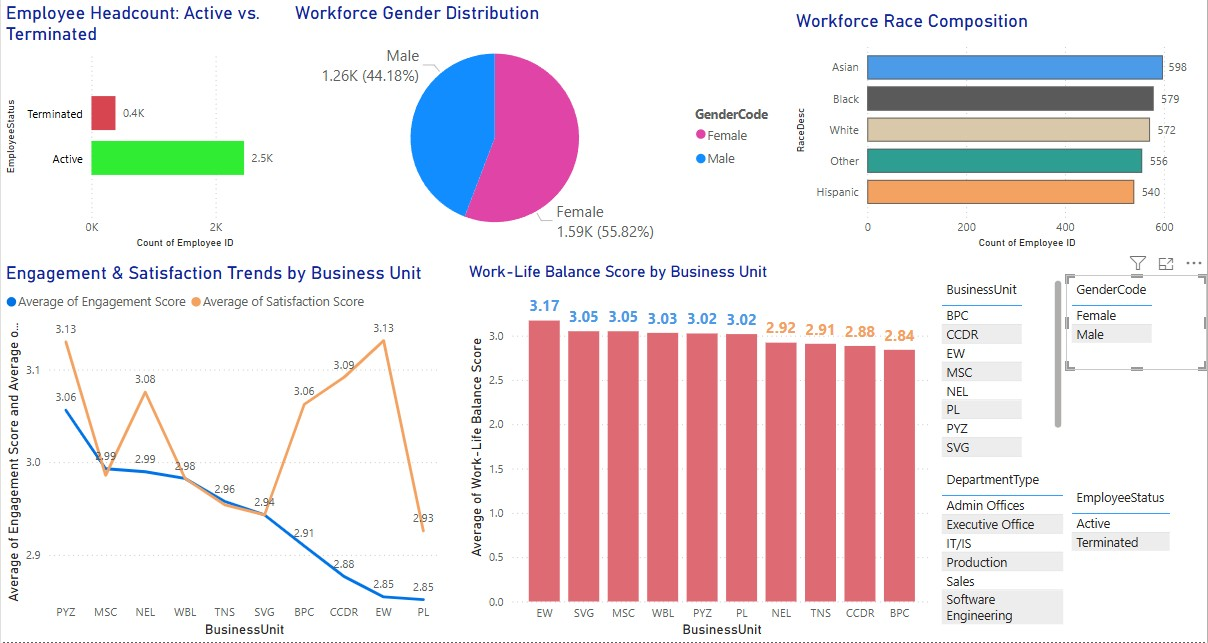

What the dashboard file says about the page in this screenshot:
{"tool":"powerbi","page":{"name":"Page 1","canvas":[1280,720],"ordinal":0},"visuals":[{"type":"barChart","title":"Employee Headcount: Active vs. Terminated","fields":{"Category":["Cleaned_HR_Dataset_for_Power_BI.EmployeeStatus"],"Y":["CountNonNull(Cleaned_HR_Dataset_for_Power_BI.Employee ID)"]},"box":[0,40.3,306.7,266.4],"z":0},{"type":"pieChart","title":"Workforce Gender Distribution","fields":{"Y":["Count(Cleaned_HR_Dataset_for_Power_BI.Employee ID)"],"Category":["Cleaned_HR_Dataset_for_Power_BI.GenderCode"]},"box":[306.7,40.3,531.7,266.4],"z":1000},{"type":"clusteredBarChart","title":"Workforce Race Composition","fields":{"Category":["Cleaned_HR_Dataset_for_Power_BI.RaceDesc"],"Y":["CountNonNull(Cleaned_HR_Dataset_for_Power_BI.Employee ID)"]},"box":[838.5,48.8,435.2,257.9],"z":2000},{"type":"lineChart","title":"Engagement & Satisfaction Trends by Business Unit","fields":{"Category":["Cleaned_HR_Dataset_for_Power_BI.BusinessUnit"],"Y":["Avg(Cleaned_HR_Dataset_for_Power_BI.Engagement Score)","Avg(Cleaned_HR_Dataset_for_Power_BI.Satisfaction Score)"]},"box":[0,316.3,470.2,403.3],"z":2001},{"type":"clusteredColumnChart","title":"Work-Life Balance Score by Business Unit","fields":{"Category":["Cleaned_HR_Dataset_for_Power_BI.BusinessUnit"],"Y":["Avg(Cleaned_HR_Dataset_for_Power_BI.Work-Life Balance Score)"]},"box":[491.4,316.3,501,403.3],"z":2002},{"type":"tableEx","fields":{"Values":["Cleaned_HR_Dataset_for_Power_BI.BusinessUnit"]},"box":[992.4,330.1,139,201.7],"z":2003},{"type":"tableEx","fields":{"Values":["Cleaned_HR_Dataset_for_Power_BI.DepartmentType"]},"box":[992.4,531.7,150,187.9],"z":2004},{"type":"tableEx","fields":{"Values":["Cleaned_HR_Dataset_for_Power_BI.GenderCode"]},"box":[1130.3,330.1,149.7,100.8],"z":2005},{"type":"tableEx","fields":{"Values":["Cleaned_HR_Dataset_for_Power_BI.EmployeeStatus"]},"box":[1130.3,550.8,149.7,149.7],"z":2006}]}

Visuals, with their boxes on the page's 1280x720 design canvas (x1, y1, x2, y2). These are canvas units, not pixel positions in the 1208x643 screenshot, which may show the page scaled, cropped or inside an application window:
"Employee Headcount: Active vs. Terminated" barChart: 0/40/307/307
"Workforce Gender Distribution" pieChart: 307/40/838/307
"Workforce Race Composition" clusteredBarChart: 838/49/1274/307
"Engagement & Satisfaction Trends by Business Unit" lineChart: 0/316/470/720
"Work-Life Balance Score by Business Unit" clusteredColumnChart: 491/316/992/720
tableEx - Cleaned_HR_Dataset_for_Power_BI.BusinessUnit: 992/330/1131/532
tableEx - Cleaned_HR_Dataset_for_Power_BI.DepartmentType: 992/532/1142/720
tableEx - Cleaned_HR_Dataset_for_Power_BI.GenderCode: 1130/330/1280/431
tableEx - Cleaned_HR_Dataset_for_Power_BI.EmployeeStatus: 1130/551/1280/700
